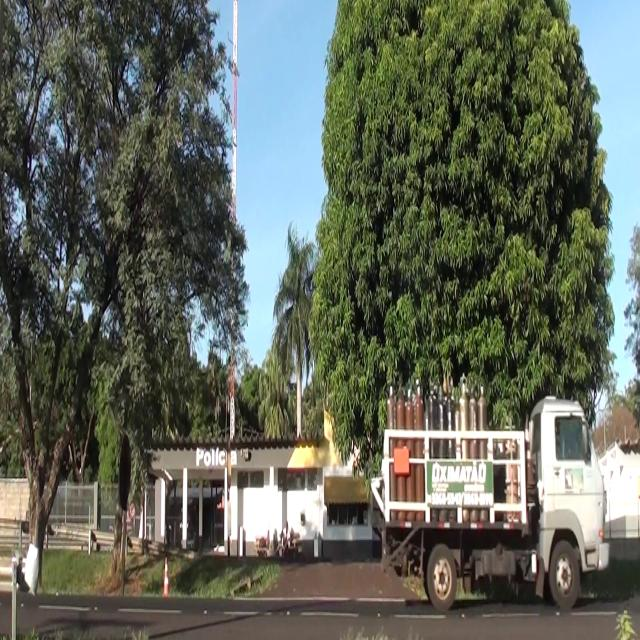-axle: (425, 544, 457, 613), (550, 540, 580, 606)
